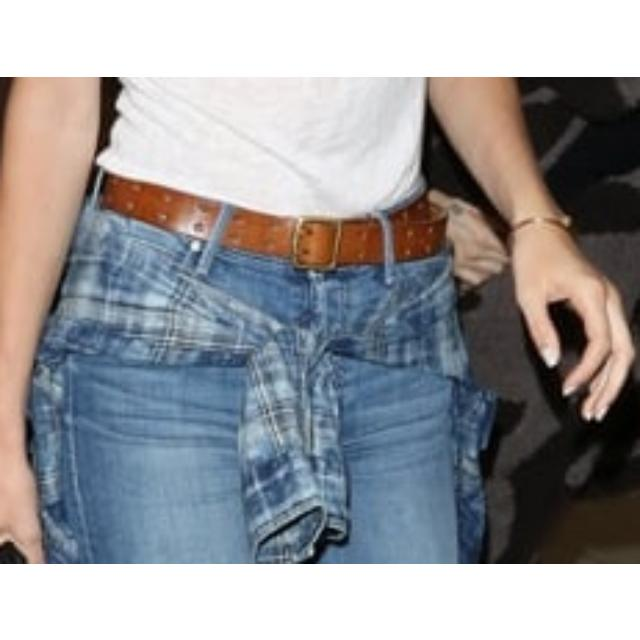denim: (53, 228, 471, 564)
